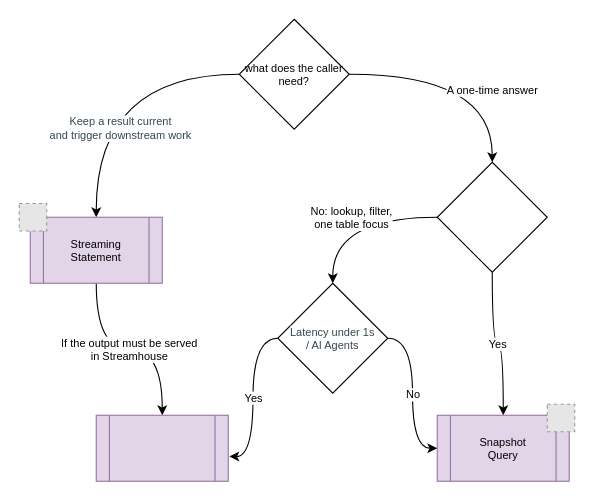
This 594x501 diagram has some shape labels left out. Grey dashed boxes stand in for pictures. Each missing label, with the centre of its shape:
"Lightning query / RTCE" belongs at point 161,447.
"Needs aggregation, joins, or global sort at read time?" belongs at point 491,216.
